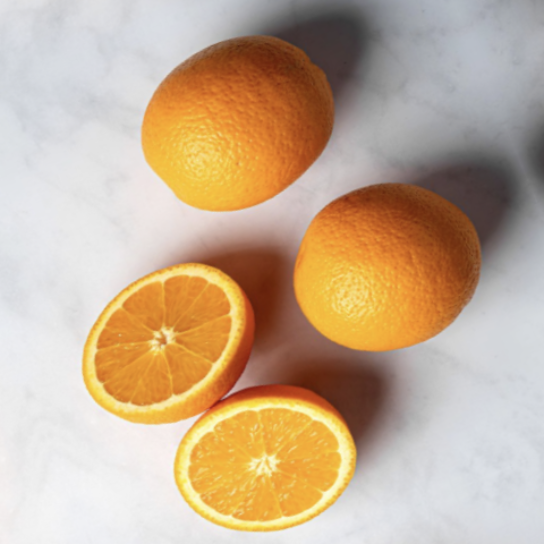orange: (108, 0, 372, 254), (257, 143, 511, 397)
